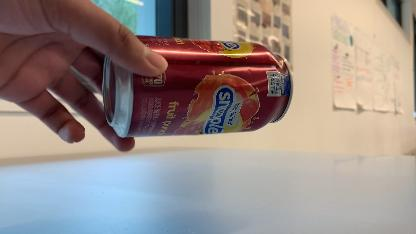Can: (99, 35, 299, 147)
